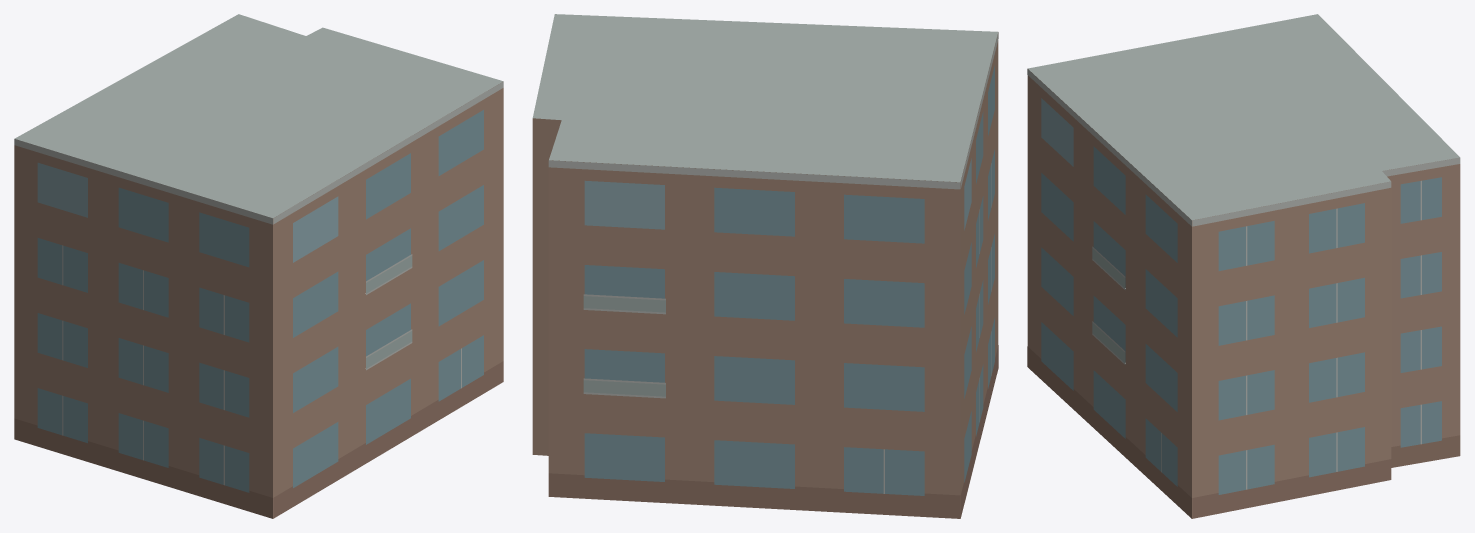
File: survey-upis-32747412.glb
3 views of the same model, side by side, from view 1: azimuth 30°, elevation 25°; view 2: azimuth 150°, elevation 25°; view 3: azimuth 270°, elevation 25° (orthographic). The views are drawn at different scales.
Parts seen in each view (by area): view 1: survey-upis-32747412.tmp; view 2: survey-upis-32747412.tmp; view 3: survey-upis-32747412.tmp.
Boxes of the visible parts, x1,y1,x2,y2 form: survey-upis-32747412.tmp: (14,14,503,518); survey-upis-32747412.tmp: (532,14,998,518); survey-upis-32747412.tmp: (1027,14,1460,518).
Bounding box in the file's own units: 16.97 × 11.44 × 15.04.
